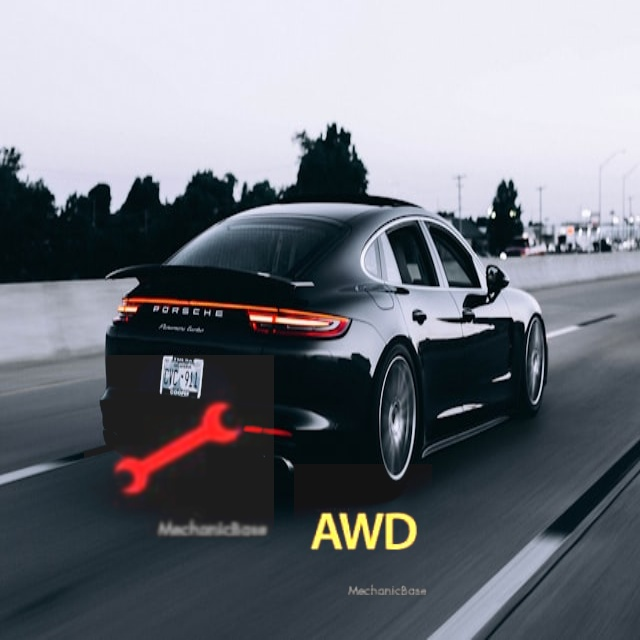symbol: (84, 355, 274, 545), (294, 464, 432, 602)
